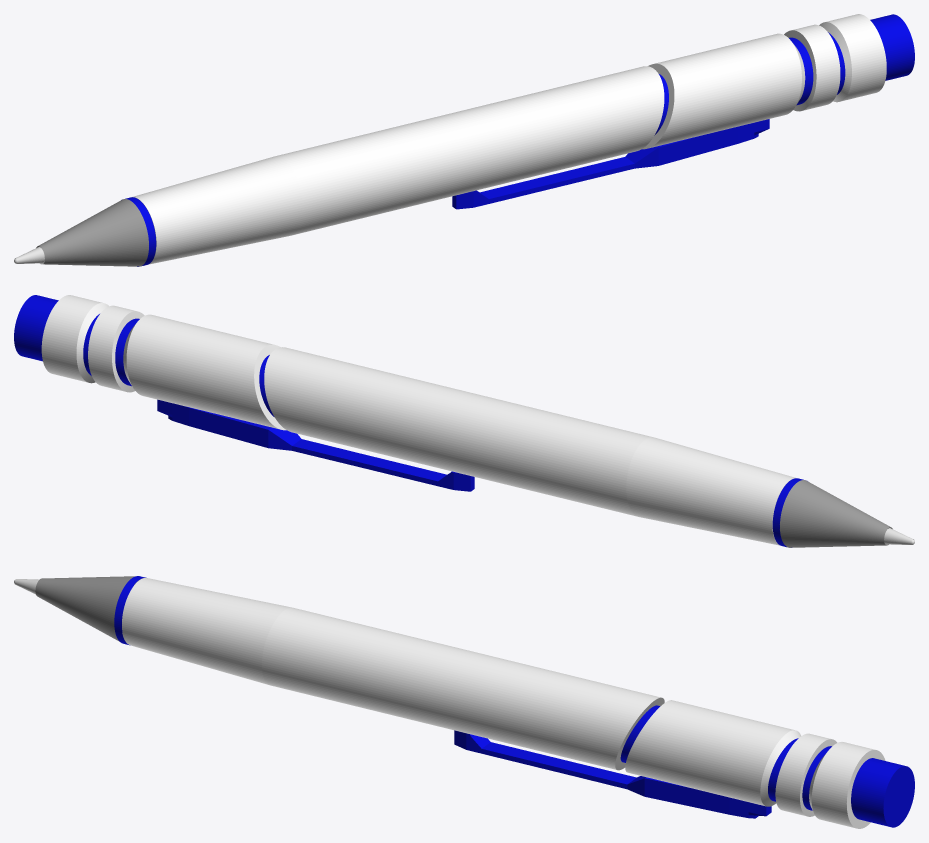
Rendered from whitepen.glb.
The picture shows the model from 3 angles, top to bottom: view 1: azimuth 30°, elevation 25°; view 2: azimuth 150°, elevation 25°; view 3: azimuth 330°, elevation 25°; orthographic projection.
Visible parts, largest first — view 1: pen_lower, pen_upper, clip, COVER, botton, pen_lower.002; view 2: pen_lower, pen_upper, clip, COVER, botton, pen_lower.002; view 3: pen_lower, pen_upper, clip, botton, COVER, pen_lower.002, pen_center.
Part boxes in pixels (bbox=[...]): pen_lower: bbox=[132, 66, 664, 264]; pen_upper: bbox=[642, 14, 886, 149]; clip: bbox=[452, 119, 769, 209]; COVER: bbox=[36, 199, 148, 266]; botton: bbox=[870, 14, 914, 80]; pen_lower.002: bbox=[125, 197, 156, 266]; pen_lower: bbox=[264, 347, 796, 545]; pen_upper: bbox=[41, 295, 286, 430]; clip: bbox=[157, 399, 474, 491]; COVER: bbox=[780, 480, 892, 547]; botton: bbox=[14, 295, 58, 361]; pen_lower.002: bbox=[772, 478, 803, 547]; pen_lower: bbox=[122, 578, 664, 770]; pen_upper: bbox=[625, 700, 885, 828]; clip: bbox=[454, 730, 771, 818]; botton: bbox=[851, 758, 914, 827]; COVER: bbox=[35, 576, 143, 643]; pen_lower.002: bbox=[114, 576, 146, 645]; pen_center: bbox=[121, 585, 660, 762].
Size of the model in its own units: 12.03 by 1.19 by 0.9535.
